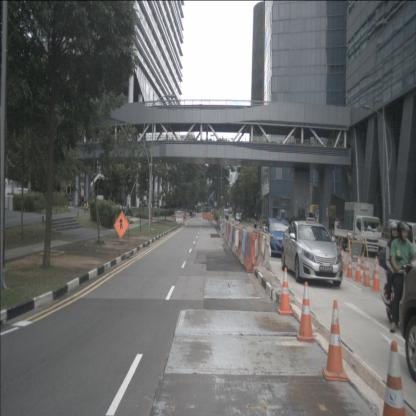barrier: (244, 232, 256, 273), (235, 226, 245, 260), (239, 229, 248, 266), (231, 227, 239, 253), (230, 225, 236, 249), (226, 223, 231, 245), (225, 222, 229, 242), (224, 222, 228, 241), (176, 215, 183, 220)
cone: (323, 299, 348, 382), (381, 340, 407, 416), (297, 282, 315, 342), (278, 268, 292, 316), (371, 262, 381, 292), (362, 259, 372, 287), (354, 256, 363, 282), (346, 254, 354, 278), (360, 254, 365, 276), (341, 249, 345, 274)
